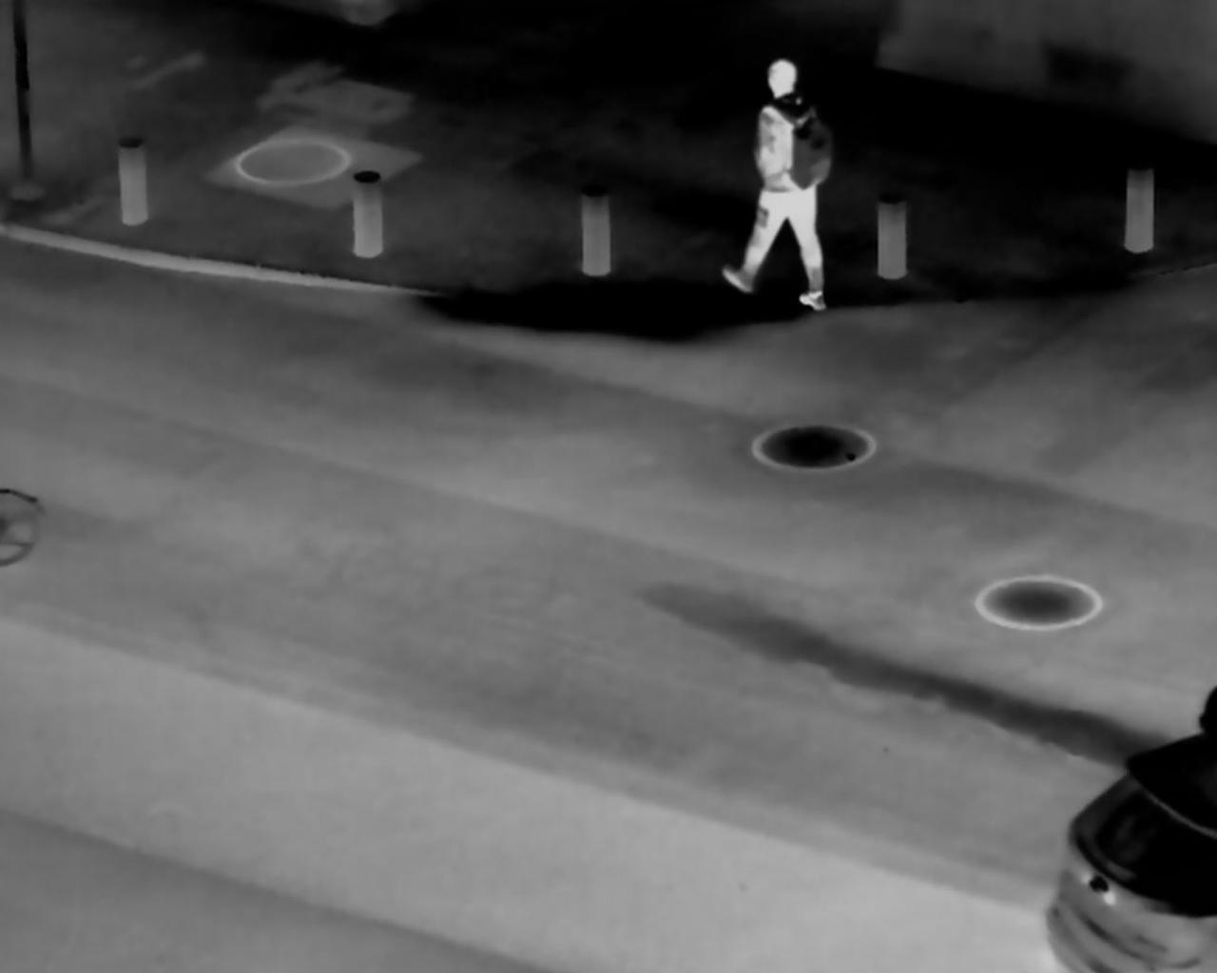person: (720, 49, 853, 321)
